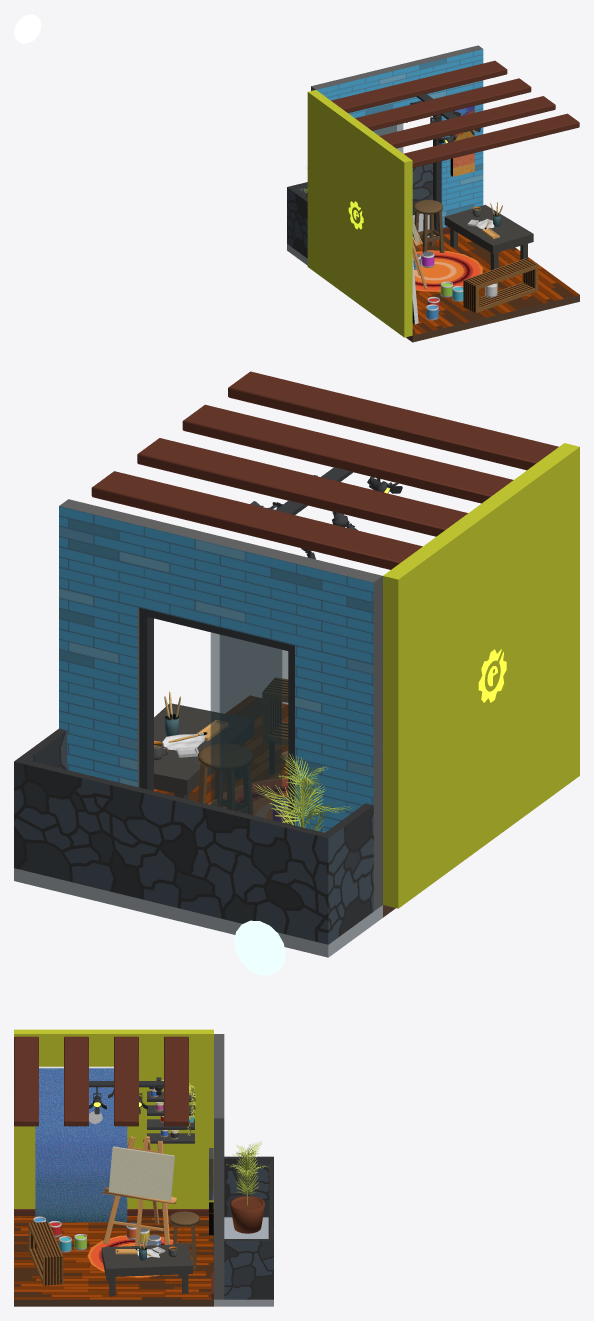
3 views of the same model, one above another, from view 1: azimuth 30°, elevation 25°; view 2: azimuth 150°, elevation 25°; view 3: azimuth 270°, elevation 25° (orthographic). The views are drawn at different scales.
Parts seen in each view (by area): view 1: Green_Wall, Woods_Top_Down, Brick_Wall, Hardwood_floor, Table, Fitment, Terrace_1, Circular_Carpet, Seat_wood, Paint_Pot_Group_1, Moon, Against_door (+2 smaller); view 2: Green_Wall, Brick_Wall, Terrace_1, Woods_Top_Down, Against_door_Glass, Against_door, Terrace_floor, Table, Hardwood_floor, Seat_wood, Palm, Moon (+4 smaller); view 3: Green_Wall, Painting_1, Hardwood_floor, Woods_Top_Down, Terrace_1, Canvas_White, Brick_Wall, Table, Fitment, Trestle, Palm_flowerpot, Shelfs (+7 smaller).
Part boxes in pixels (x1,y1,x2,y2): Green_Wall: [307, 90, 412, 337]; Woods_Top_Down: [331, 60, 579, 335]; Brick_Wall: [311, 45, 483, 227]; Hardwood_floor: [406, 233, 579, 342]; Table: [444, 204, 533, 270]; Fitment: [463, 258, 538, 312]; Terrace_1: [287, 163, 432, 258]; Circular_Carpet: [414, 250, 483, 291]; Seat_wood: [413, 200, 444, 253]; Paint_Pot_Group_1: [426, 281, 463, 320]; Moon: [14, 14, 41, 43]; Against_door: [420, 114, 440, 237]; Green_Wall: [383, 443, 579, 908]; Brick_Wall: [59, 499, 382, 910]; Terrace_1: [14, 728, 373, 944]; Woods_Top_Down: [91, 371, 558, 569]; Against_door_Glass: [210, 632, 288, 823]; Against_door: [139, 608, 294, 825]; Terrace_floor: [14, 868, 382, 957]; Table: [154, 703, 253, 799]; Hardwood_floor: [154, 696, 395, 917]; Seat_wood: [197, 743, 252, 814]; Palm: [253, 753, 352, 832]; Moon: [234, 920, 285, 975]; Green_Wall: [14, 1029, 213, 1208]; Painting_1: [35, 1066, 127, 1222]; Hardwood_floor: [14, 1216, 213, 1306]; Woods_Top_Down: [14, 1036, 213, 1299]; Terrace_1: [223, 1156, 273, 1299]; Canvas_White: [108, 1146, 174, 1200]; Brick_Wall: [214, 1034, 224, 1299]; Table: [101, 1244, 192, 1296]; Fitment: [28, 1221, 63, 1285]; Trestle: [102, 1136, 176, 1245]; Palm_flowerpot: [230, 1196, 265, 1233]; Shelfs: [147, 1091, 194, 1143].
Size of the model in its own units: 5.68 by 3.38 by 9.2.
